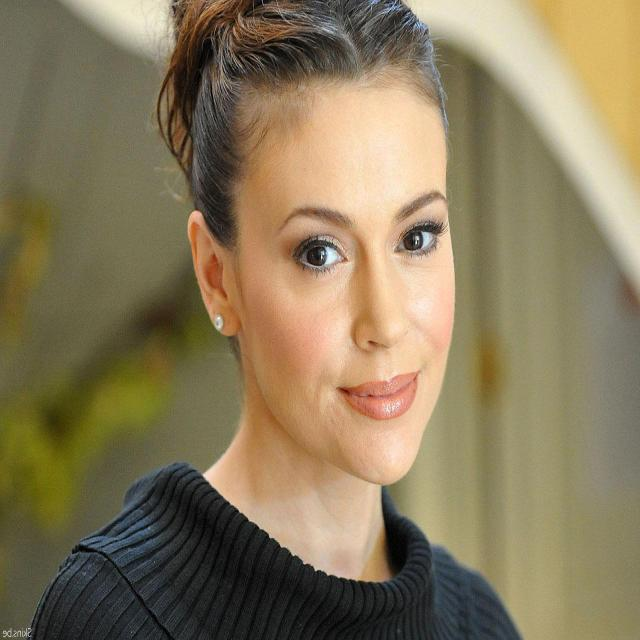no-earmuff: (180, 193, 256, 365)
